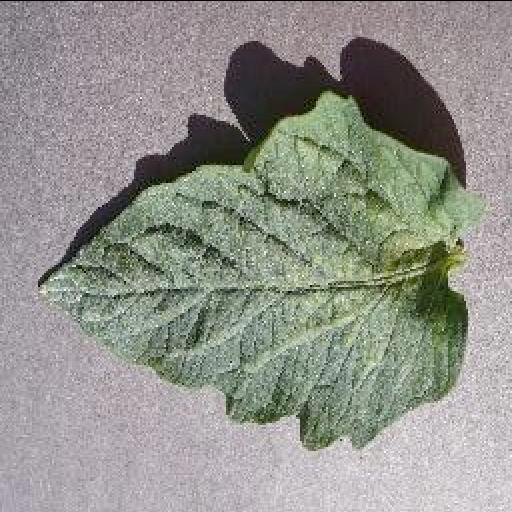disease_tomato: (34, 90, 486, 448)
